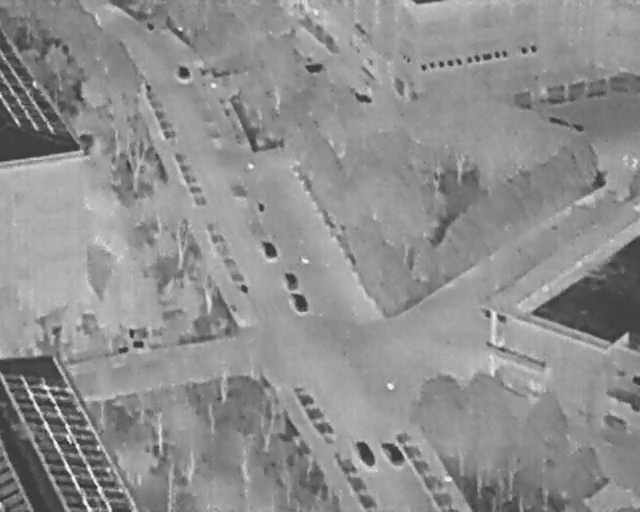Car: (379, 436, 407, 470), (354, 437, 377, 468), (290, 289, 310, 315), (260, 237, 278, 261), (282, 271, 299, 291), (175, 63, 192, 82)
